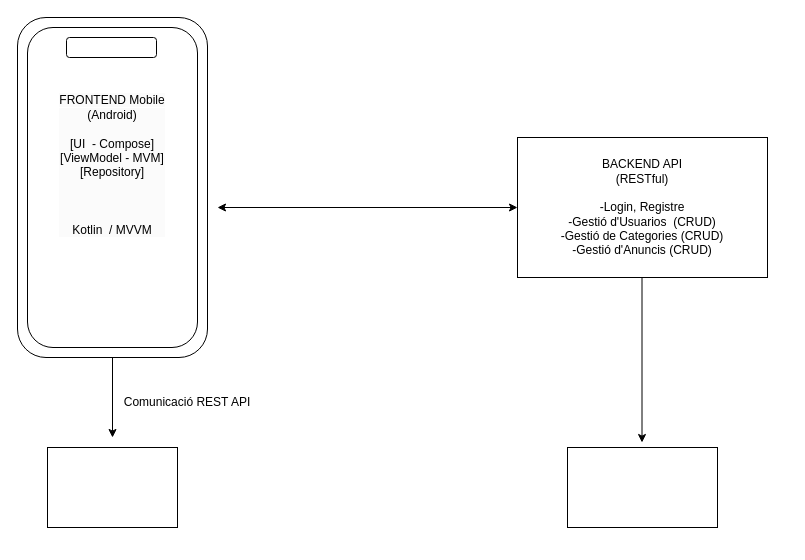
Some shapes in this 805 by 560 pixel diagram are drawn without their labels. Each missing label, with the centre of its shape:
Base de Dades (MySQL): point 112,487
HOSTING -Desplegament de l'API -Monitorizació (logs): point 642,487
